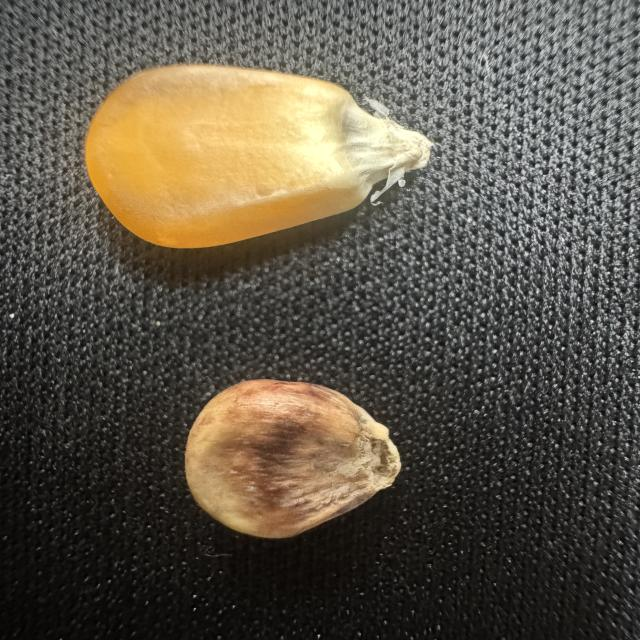Bad-Seed: (170, 372, 418, 547)
Good-Seed: (77, 57, 446, 257)
